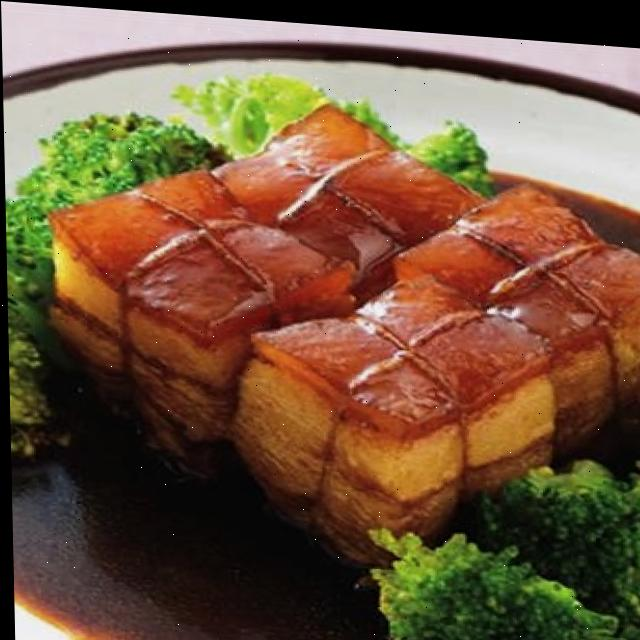牛肉菜式: (4, 18, 640, 640)
